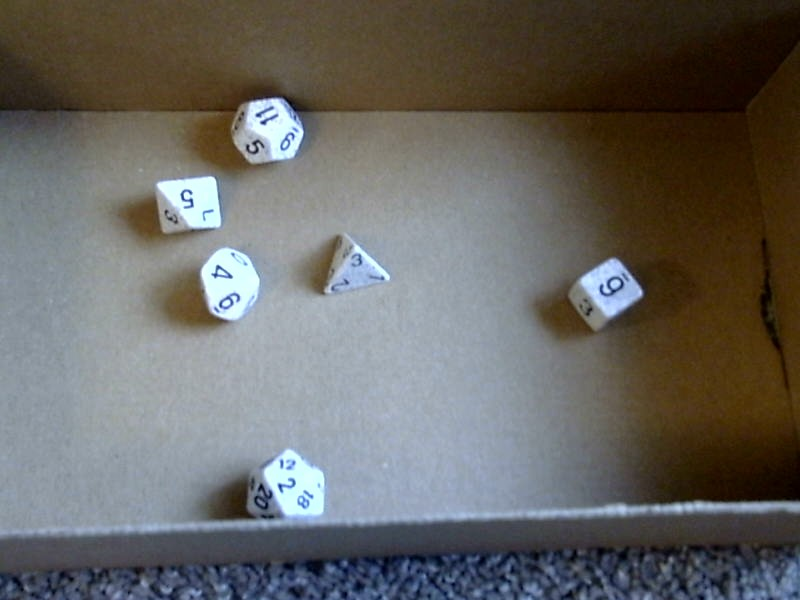d10 4: (194, 247, 262, 322)
d12 11: (222, 93, 309, 169)
d20 2: (243, 445, 328, 519)
d4 3: (317, 230, 394, 306)
d6 6: (562, 251, 649, 334)
d8 5: (147, 172, 224, 238)
